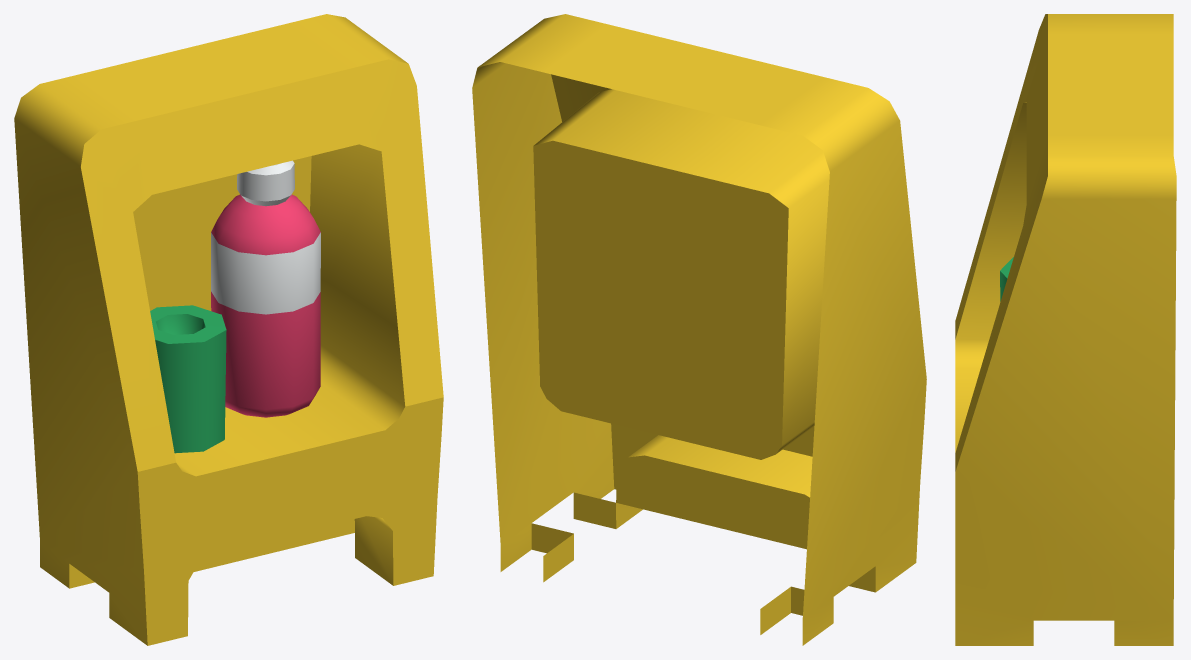
File: icebox01_s03.FBX
The picture shows the model from 3 angles, left to right: view 1: azimuth 30°, elevation 25°; view 2: azimuth 150°, elevation 25°; view 3: azimuth 270°, elevation 25°; orthographic projection. The views are drawn at different scales.
Visible parts, largest first — view 1: icebox01_s03; view 2: icebox01_s03; view 3: icebox01_s03.
Part boxes in pixels (x1,y1,x2,y2): icebox01_s03: (14, 14, 443, 645); icebox01_s03: (472, 14, 926, 645); icebox01_s03: (955, 14, 1176, 645).
Bounding box in the file's own units: 137 × 76.85 × 188.
1 material, 1 textured.
